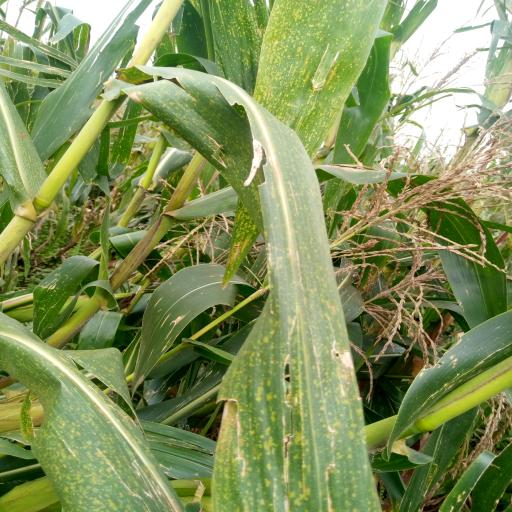Corn_Brown_Spots: (147, 72, 382, 512), (0, 317, 183, 512)
